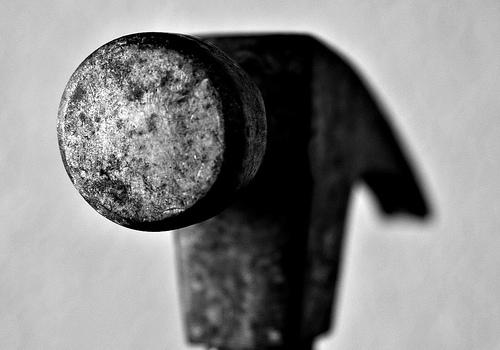hammer: (51, 24, 430, 349)
